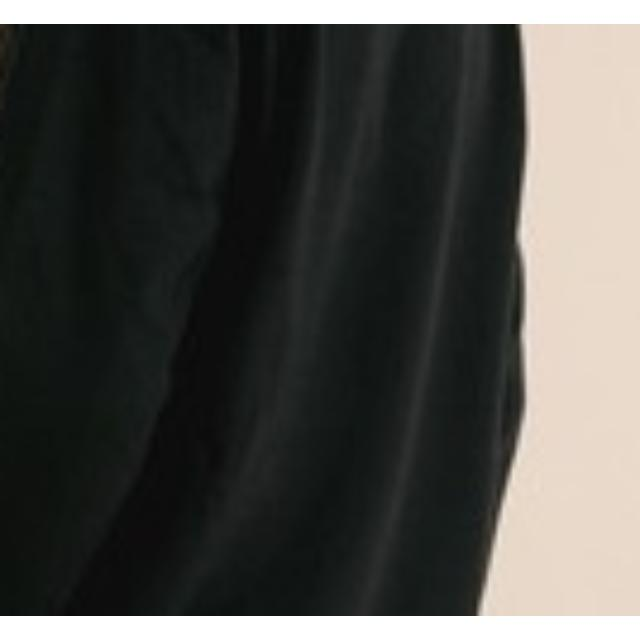polyester: (1, 24, 492, 616)
